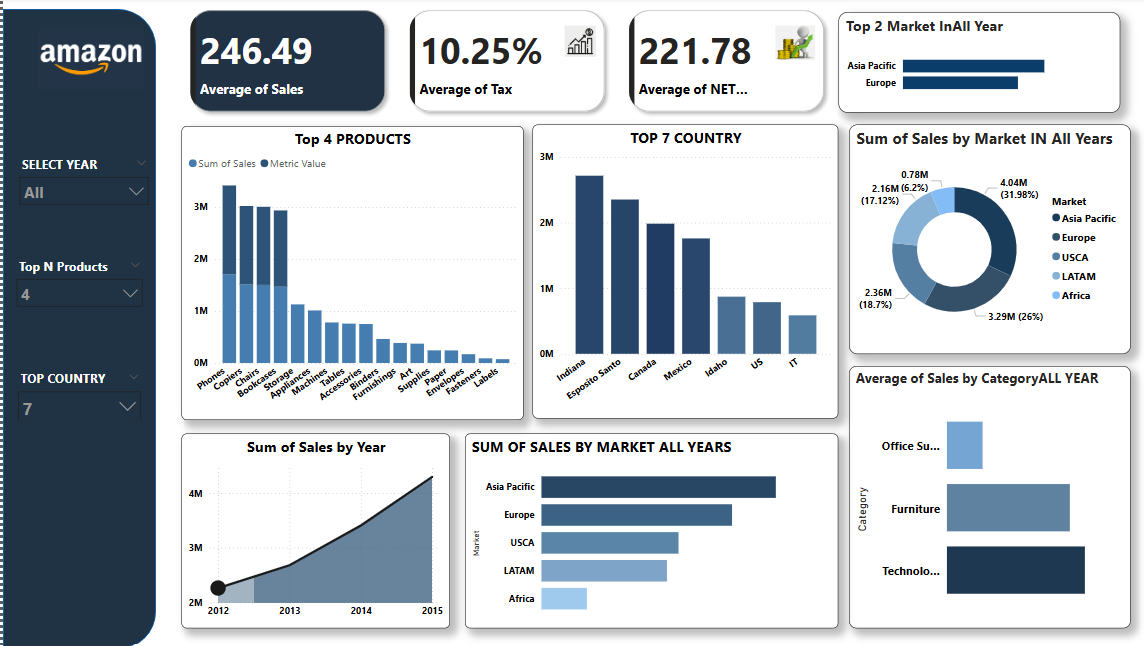

The dashboard page shown, as its layout file describes it:
{"tool":"powerbi","page":{"name":"Page 1","canvas":[1491,850],"ordinal":0},"visuals":[{"type":"cardVisual","fields":{"Data":["Avg(Sales 2016_csv.Sales)","Avg(Sales 2016_csv.Tax)","Avg(Sales 2016_csv.NET REVENUE)"]},"box":[226.8,0,862.4,166.2],"z":0},{"type":"barChart","fields":{"Category":["Sales 2016_csv.Market"],"Y":["Sum(Sales 2016_csv.Sales)"]},"box":[1089.3,19.6,367.6,131],"z":1000},{"type":"shape","box":[0,15.6,199.5,835],"z":2000},{"type":"image","box":[29.3,37.2,170.1,88],"z":3000},{"type":"lineChart","fields":{"Category":["Sales 2016_csv.order date.Variation.Date Hierarchy.Year"],"Y":["Sum(Sales 2016_csv.Sales)"]},"box":[232.7,569.1,350,254.2],"z":4000},{"type":"donutChart","fields":{"Category":["Sales 2016_csv.Market"],"Y":["Sum(Sales 2016_csv.Sales)"]},"box":[1102.9,166.2,367.6,299.2],"z":5000},{"type":"barChart","fields":{"Category":["Products 2016.Category"],"Y":["Avg(Sales 2016_csv.Sales)"]},"box":[1102.9,481.1,367.6,342.2],"z":6000},{"type":"barChart","fields":{"Category":["Sales 2016_csv.Market"],"Y":["Sum(Sales 2016_csv.Sales)"]},"box":[602.3,569.1,486.9,254.2],"z":7000},{"type":"slicer","fields":{"Values":["Sales 2016_csv.order date.Variation.Date Hierarchy.Year"]},"box":[11.7,201.4,187.7,86],"z":8000},{"type":"columnChart","fields":{"Category":["Products 2016.Sub-Category"],"Y":["Sum(Sales 2016_csv.Sales)","Products 2016.Metric Value"]},"box":[232.7,168.2,445.9,383.3],"z":9000},{"type":"slicer","fields":{"Values":["Top N Products .Top N Products "]},"box":[7.8,334.4,183.8,99.7],"z":10000},{"type":"columnChart","fields":{"Category":["Sales 2016_csv.Coutry Name"],"Y":["Products 2016.METRIC VALUE 2"]},"box":[690.3,166.2,398.9,383.3],"z":10001},{"type":"slicer","fields":{"Values":["TOP COUNTRY .TOP COUNTRY "]},"box":[9.8,481.1,179.9,70.4],"z":10002}]}

Visuals, with their boxes in screenshot pixels (x1, y1, x2, y2), scaled from the page's 1491x850 canvas onto the 1144x646 screenshot:
cardVisual - Avg(Sales 2016_csv.Sales) x Avg(Sales 2016_csv.Tax): [174, 0, 836, 126]
barChart - Sales 2016_csv.Market x Sum(Sales 2016_csv.Sales): [836, 15, 1118, 114]
shape: [0, 12, 153, 645]
image: [22, 28, 153, 95]
lineChart - Sales 2016_csv.order date.Variation.Date Hierarchy.Year x Sum(Sales 2016_csv.Sales): [179, 433, 447, 626]
donutChart - Sales 2016_csv.Market x Sum(Sales 2016_csv.Sales): [846, 126, 1128, 354]
barChart - Products 2016.Category x Avg(Sales 2016_csv.Sales): [846, 366, 1128, 626]
barChart - Sales 2016_csv.Market x Sum(Sales 2016_csv.Sales): [462, 433, 836, 626]
slicer - Sales 2016_csv.order date.Variation.Date Hierarchy.Year: [9, 153, 153, 218]
columnChart - Products 2016.Sub-Category x Sum(Sales 2016_csv.Sales): [179, 128, 521, 419]
slicer - Top N Products .Top N Products : [6, 254, 147, 330]
columnChart - Sales 2016_csv.Coutry Name x Products 2016.METRIC VALUE 2: [530, 126, 836, 418]
slicer - TOP COUNTRY .TOP COUNTRY : [8, 366, 146, 419]
